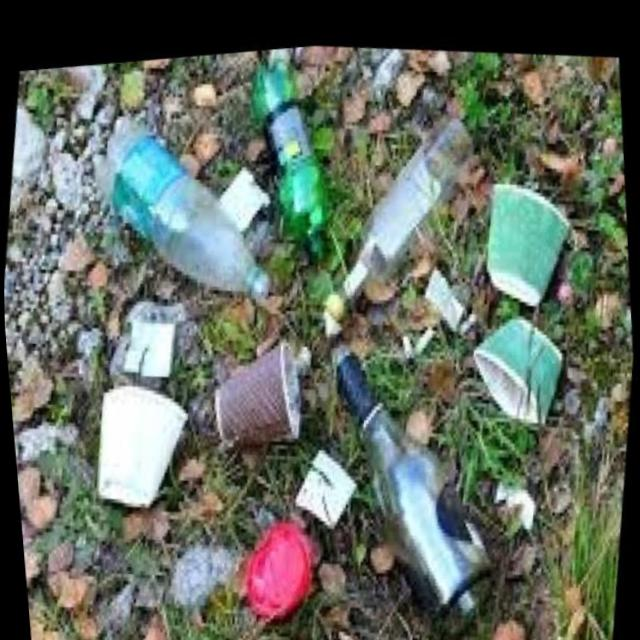foam box: (299, 311, 539, 640), (301, 80, 496, 340)
food: (284, 415, 374, 538), (105, 296, 190, 378)
leaf: (70, 44, 301, 314), (209, 24, 375, 270), (231, 481, 331, 631)
trash: (455, 108, 613, 320), (61, 338, 216, 522), (443, 295, 600, 457), (186, 292, 322, 461)
